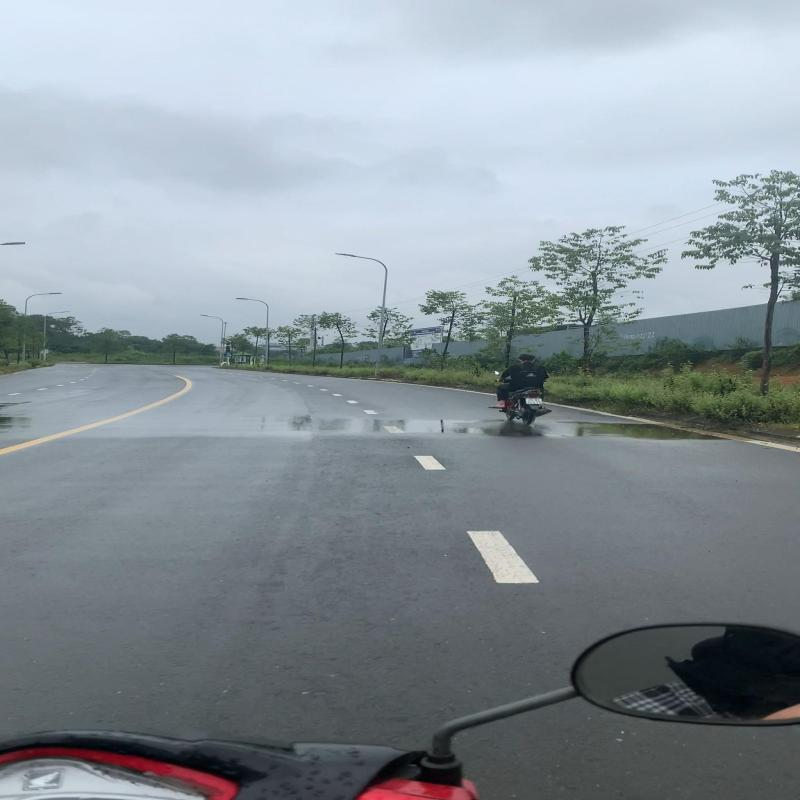licenseplate: (524, 396, 544, 406)
motorcyclist: (486, 353, 554, 427)
nohelmet: (518, 353, 536, 363)
